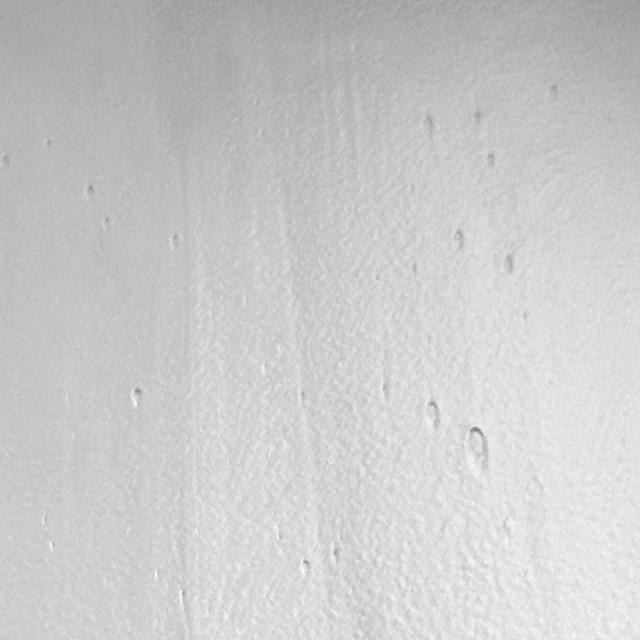pin holes: (463, 423, 493, 476), (421, 398, 442, 431), (447, 226, 468, 255), (127, 385, 148, 412), (417, 113, 438, 140), (543, 81, 564, 106), (498, 251, 518, 277), (479, 151, 498, 175), (296, 558, 314, 581), (466, 109, 483, 132), (377, 380, 392, 405), (164, 232, 182, 252), (328, 546, 342, 567), (82, 182, 95, 203), (101, 215, 113, 236), (296, 391, 308, 409), (406, 262, 419, 278), (41, 136, 54, 151), (517, 310, 529, 326), (152, 568, 164, 584), (2, 155, 12, 172), (46, 540, 58, 554)
